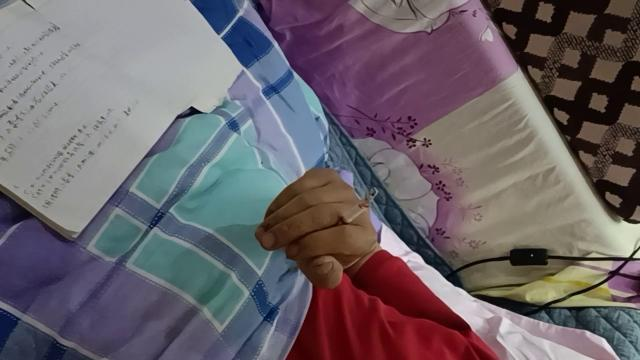Smoking: (330, 188, 380, 230)
